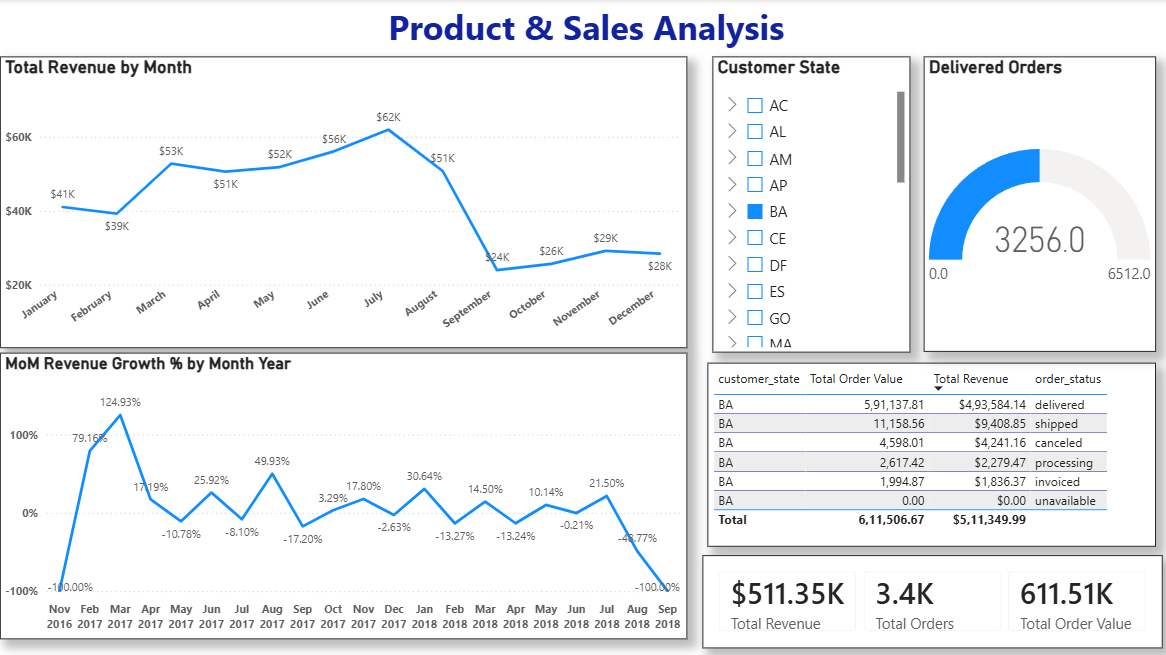

Layout of this report page (visuals, bound fields, positions):
{"tool":"powerbi","page":{"name":"Executive Overview","canvas":[1280,720],"ordinal":0},"visuals":[{"type":"cardVisual","fields":{"Data":["olist_master_orders_powerbi.Total Revenue"]},"box":[0,142.9,194.7,131.7],"z":0},{"type":"cardVisual","fields":{"Data":["olist_master_orders_powerbi.Total Orders"]},"box":[172.3,127.5,184.3,161.6],"z":1000},{"type":"cardVisual","fields":{"Data":["olist_master_orders_powerbi.Average Order Value"]},"box":[339,127.5,229.7,161.6],"z":2000},{"type":"cardVisual","fields":{"Data":["olist_master_orders_powerbi.Average Review Score"]},"box":[172.3,257.7,214.1,148.9],"z":3000},{"type":"cardVisual","fields":{"Data":["olist_master_orders_powerbi.On-Time Delivery %"]},"box":[361.4,257.7,208,162],"z":4000},{"type":"cardVisual","fields":{"Data":["olist_master_orders_powerbi.Delivered Orders"]},"box":[0,268.9,184.9,140.1],"z":5000},{"type":"textbox","box":[0,19.8,1280.3,49.6],"z":6000},{"type":"lineChart","title":"Monthly Revenue Trend","fields":{"Y":["olist_master_orders_powerbi.Total Revenue"],"Category":["olist_master_orders_powerbi.Order Month"]},"box":[549.1,99.5,505.7,298.4],"z":7000},{"type":"barChart","title":"Top 10 Product Categories by Revenue","fields":{"Category":["top_10_product_categories.product_category"],"Y":["Sum(top_10_product_categories.revenue)"]},"box":[0,409,453.8,311],"z":8000},{"type":"barChart","title":"Top 10 States by Revenue","fields":{"Category":["top_10_states_by_revenue.customer_state"],"Y":["Sum(top_10_states_by_revenue.revenue)"]},"box":[483.3,397.8,291.4,312.4],"z":9000},{"type":"barChart","title":"Top 10 States by Customers","fields":{"Category":["top_10_states_by_revenue.customer_state"],"Y":["Sum(top_10_states_by_revenue.customers)"]},"box":[1054.8,99.5,225.5,298.4],"z":10000},{"type":"donutChart","title":"Customer Review Distribution","fields":{"Category":["olist_master_orders_powerbi.Review Score Group"],"Y":["CountNonNull(olist_master_orders_powerbi.order_id)"]},"box":[774.6,519.7,399.2,194.7],"z":11000},{"type":"pivotTable","title":"State Filter","fields":{"Rows":["top_10_states_by_revenue.customer_state"]},"box":[1158.4,409,121.9,311],"z":13000},{"type":"gauge","fields":{"Y":["olist_master_orders_powerbi.Total Order Value"]},"box":[774.6,406.2,354.4,107.9],"z":15000}]}

Visuals, with their boxes in screenshot pixels (x1, y1, x2, y2), scaled from the page's 1280x720 canvas onto the 1166x655 screenshot:
cardVisual - olist_master_orders_powerbi.Total Revenue: (0, 130, 177, 250)
cardVisual - olist_master_orders_powerbi.Total Orders: (157, 116, 325, 263)
cardVisual - olist_master_orders_powerbi.Average Order Value: (309, 116, 518, 263)
cardVisual - olist_master_orders_powerbi.Average Review Score: (157, 234, 352, 370)
cardVisual - olist_master_orders_powerbi.On-Time Delivery %: (329, 234, 519, 382)
cardVisual - olist_master_orders_powerbi.Delivered Orders: (0, 245, 168, 372)
textbox: (0, 18, 1165, 63)
"Monthly Revenue Trend" lineChart: (500, 91, 961, 362)
"Top 10 Product Categories by Revenue" barChart: (0, 372, 413, 654)
"Top 10 States by Revenue" barChart: (440, 362, 706, 646)
"Top 10 States by Customers" barChart: (961, 91, 1165, 362)
"Customer Review Distribution" donutChart: (706, 473, 1069, 650)
"State Filter" pivotTable: (1055, 372, 1165, 654)
gauge - olist_master_orders_powerbi.Total Order Value: (706, 370, 1028, 468)
